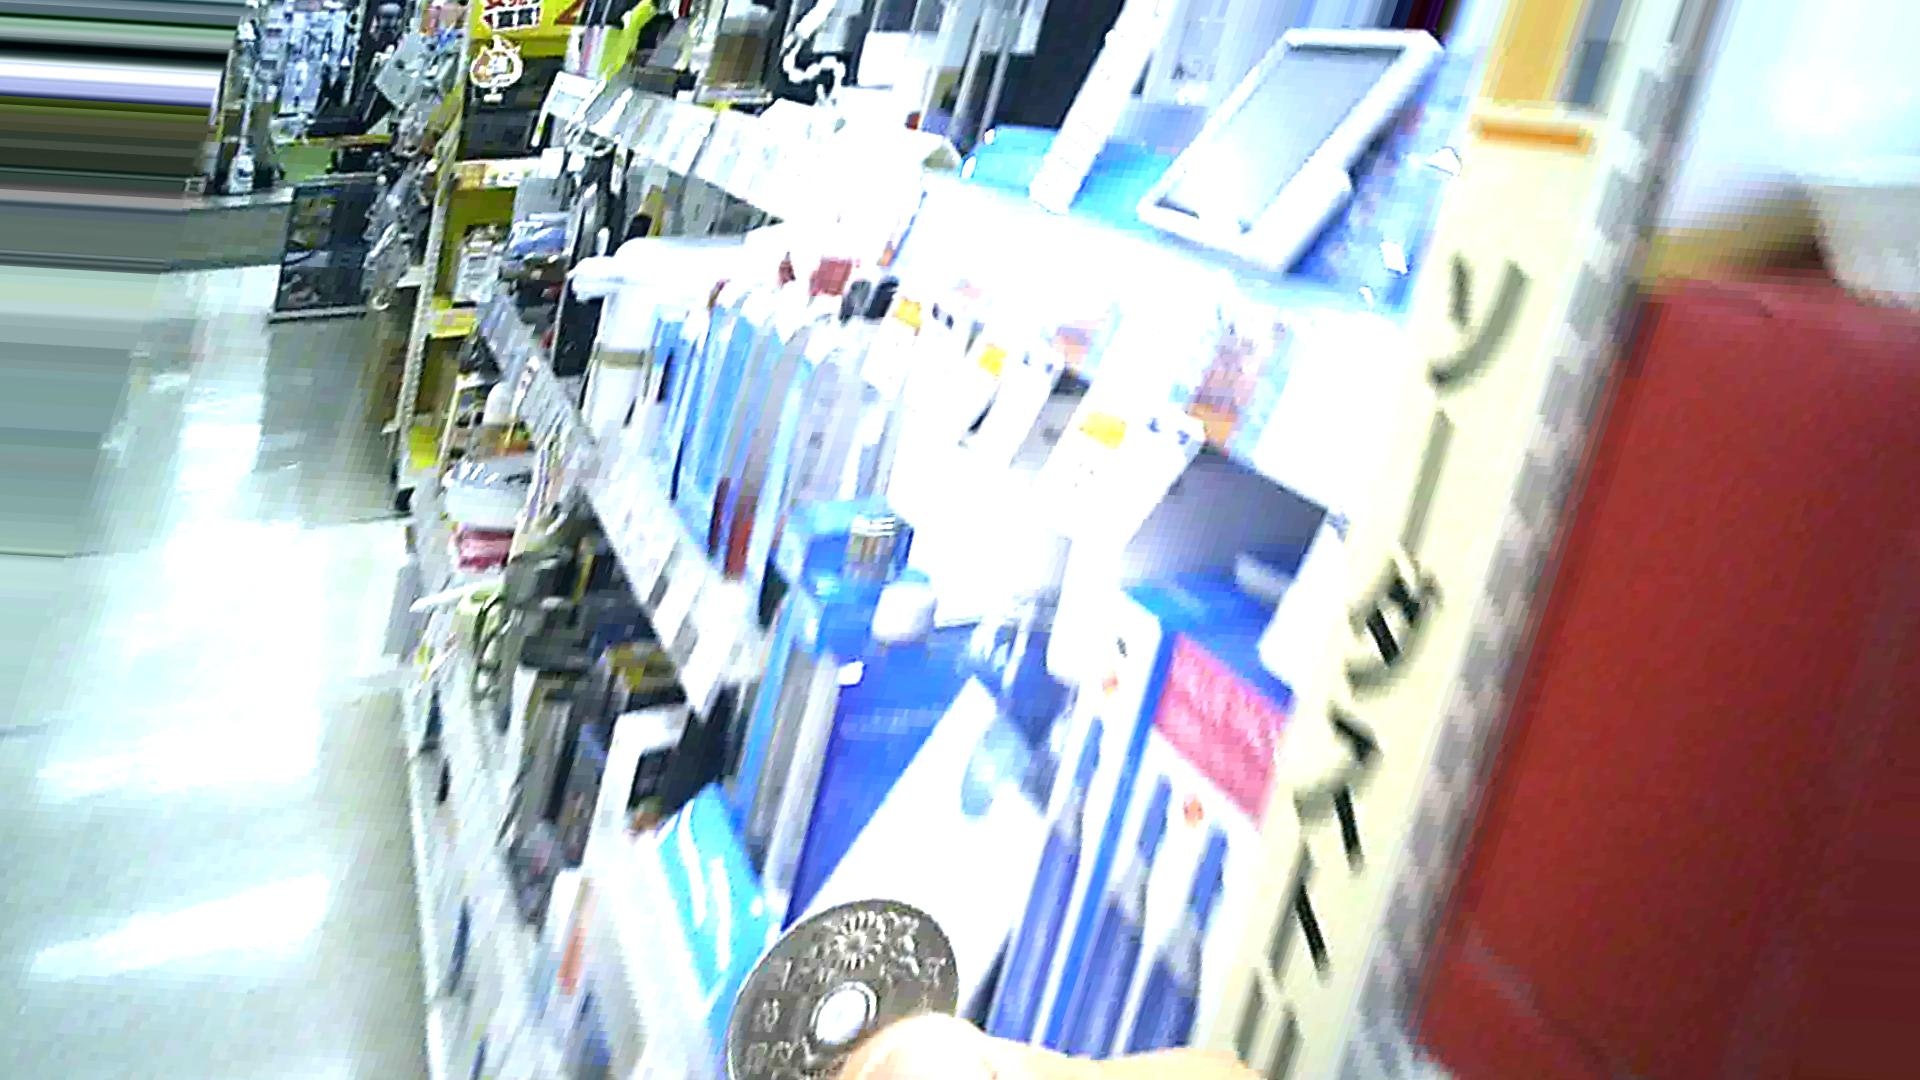50 Yen: (724, 880, 975, 1073)
